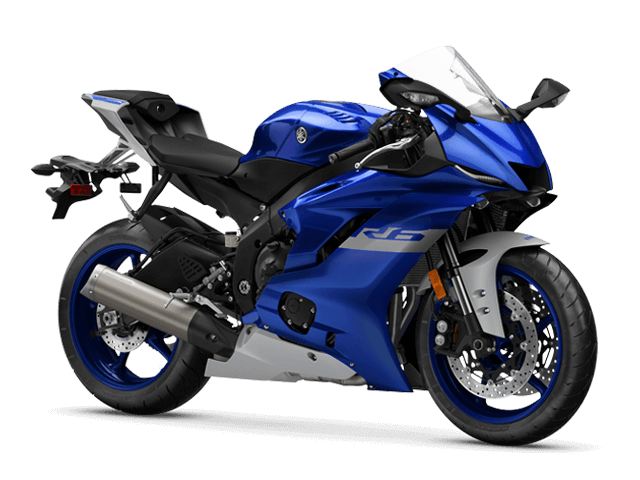motorbike: (30, 44, 597, 446)
